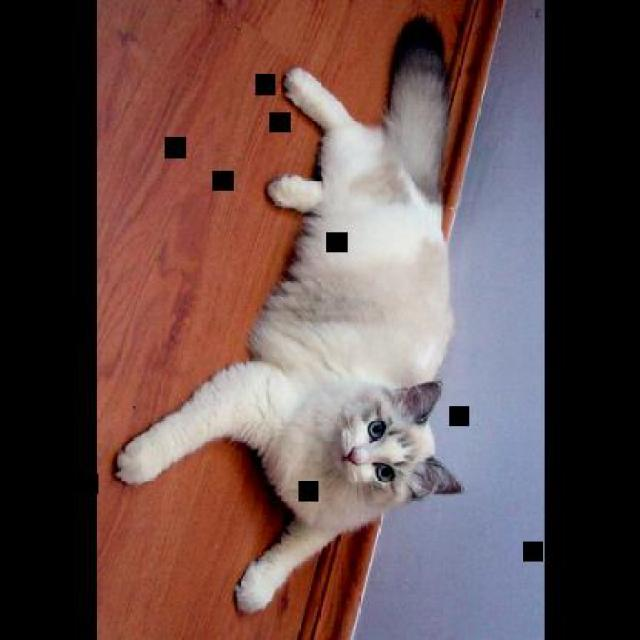unauthorized: (111, 14, 463, 615)
